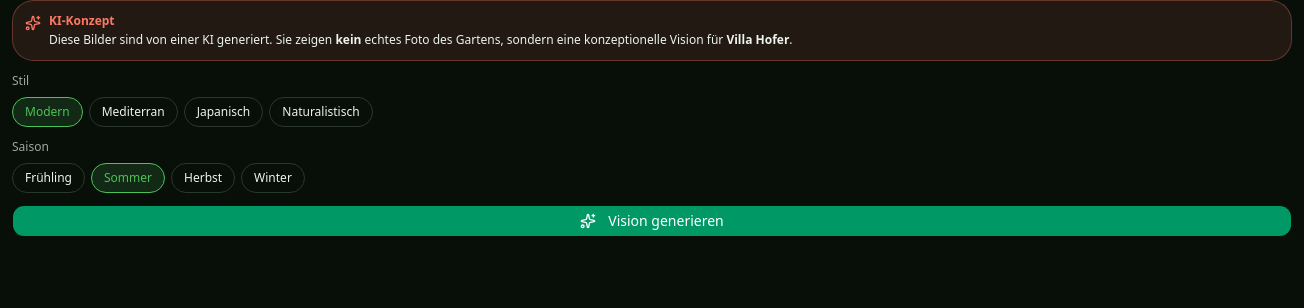
it: VisionTab › shows a rate-limit error when the API returns 429
Click the button with test id "vision-generate". click: (652,221)
box: [12,205,1292,237]
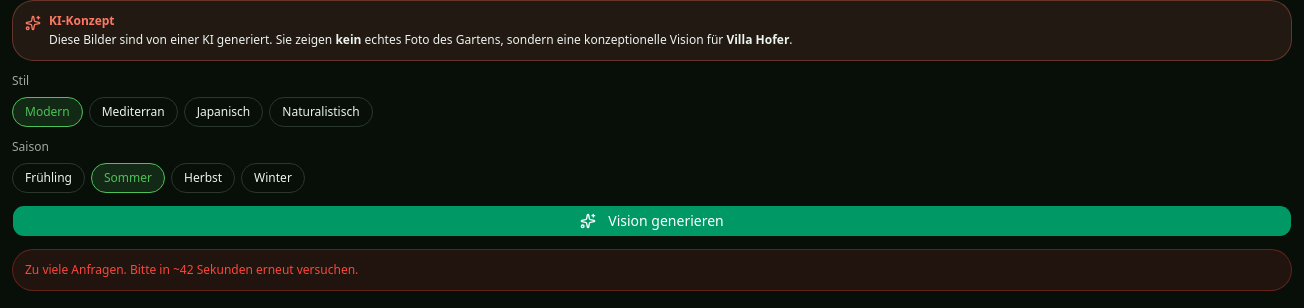
Now the text "Zu viele Anfragen. Bitte in ~42 Sekunden erneut versuchen." is shown, box [12,249,1292,291]
